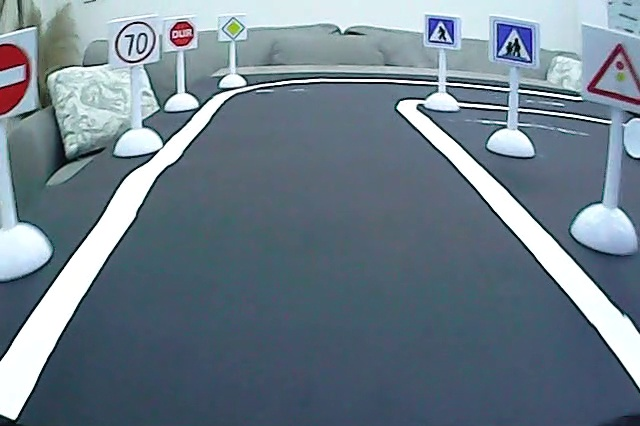pedestrian crossing: (426, 15, 458, 49)
red light: (585, 37, 640, 110)
school crossing: (493, 19, 539, 67)
speed limit 70: (112, 19, 156, 66)
stop sign: (168, 18, 197, 48)
